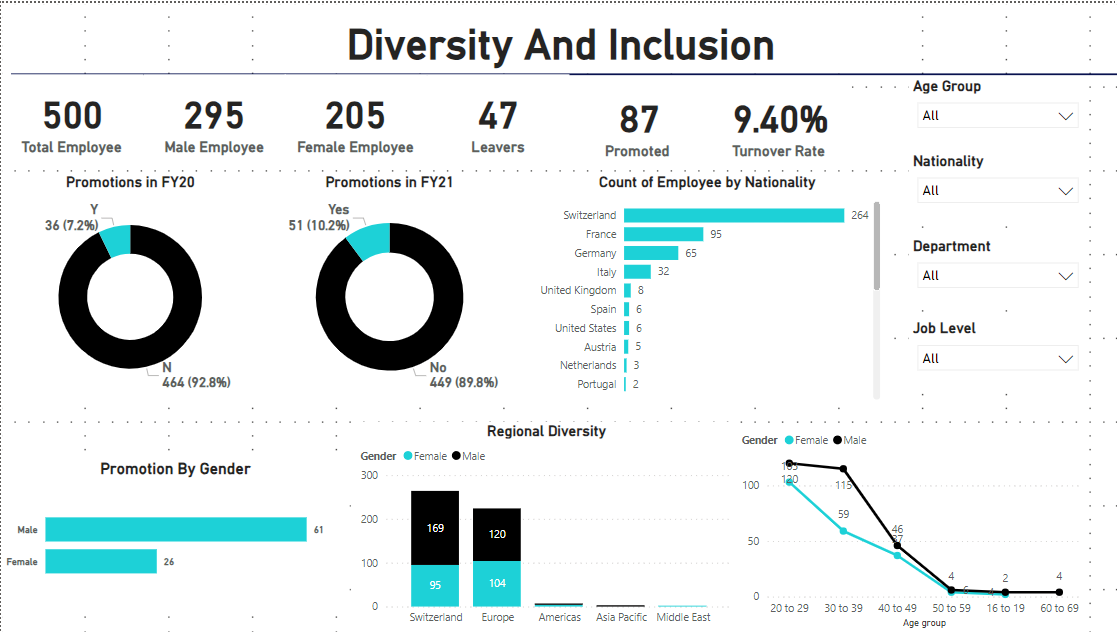

This screenshot's page, from the dashboard's own definition file:
{"tool":"powerbi","page":{"name":"Page 1","canvas":[1280,720],"ordinal":0},"visuals":[{"type":"textbox","box":[311.4,14.8,657.2,66.5],"z":0},{"type":"shape","box":[11.6,0,1268.4,162.9],"z":1000},{"type":"card","fields":{"Values":["Pharma Group AG.Male emp"]},"box":[162.9,81.4,162,104.3],"z":2000},{"type":"card","fields":{"Values":["Pharma Group AG.Female emp"]},"box":[324.3,81.4,162,104.3],"z":3000},{"type":"card","fields":{"Values":["CountNonNull(Pharma Group AG.Employee ID)"]},"box":[0,81.4,162,104.3],"z":4000},{"type":"card","fields":{"Values":["CountNonNull(Pharma Group AG.Leaver FY)"]},"box":[487.1,81.4,162,104.3],"z":9000},{"type":"donutChart","title":"Promotions in FY20","fields":{"Category":["Pharma Group AG.Promotion in FY20?"],"Y":["CountNonNull(Pharma Group AG.Employee ID)"]},"box":[0,194.3,295.7,264.3],"z":10000},{"type":"clusteredBarChart","title":"Count of Employee by Nationality ","fields":{"Category":["Pharma Group AG.Nationality 1"],"Y":["CountNonNull(Pharma Group AG.Employee ID)"]},"box":[604.3,194.3,405.7,264.3],"z":11002},{"type":"lineChart","fields":{"Category":["Pharma Group AG.Age group"],"Y":["CountNonNull(Pharma Group AG.Employee ID)"],"Series":["Pharma Group AG.Gender"]},"box":[841.4,480,400,240],"z":11003},{"type":"columnChart","title":"Regional Diversity","fields":{"Category":["Pharma Group AG.Region group: nationality 1"],"Y":["CountNonNull(Pharma Group AG.Employee ID)"],"Series":["Pharma Group AG.Gender"]},"box":[405.7,478.6,435.7,241.4],"z":11004},{"type":"barChart","title":"Promotion By Gender","fields":{"Category":["Pharma Group AG.Gender"],"Y":["Pharma Group AG.Promoted FY20"]},"box":[0,521.4,398.6,170],"z":11005},{"type":"card","fields":{"Values":["Pharma Group AG.Promoted FY20"]},"box":[648.6,85.7,162,104.3],"z":11006},{"type":"slicer","title":"Department","fields":{"Values":["Pharma Group AG.Last Department in FY20"]},"box":[1037.1,267.1,204.3,78.6],"z":11008},{"type":"slicer","title":"Job Level","fields":{"Values":["Pharma Group AG.Job Level after FY20 promotions"]},"box":[1037.1,361.4,204.3,78.6],"z":11009},{"type":"slicer","title":"Age Group","fields":{"Values":["Pharma Group AG.Age group"]},"box":[1037.1,84.3,204.3,78.6],"z":11010},{"type":"slicer","title":"Nationality","fields":{"Values":["Pharma Group AG.Nationality 1"]},"box":[1037.1,170,204.3,78.6],"z":11011},{"type":"donutChart","title":"Promotions in FY21","fields":{"Y":["CountNonNull(Pharma Group AG.Employee ID)"],"Category":["Pharma Group AG.Promotion in FY21?"]},"box":[284.3,194.3,320,264.3],"z":11012},{"type":"card","fields":{"Values":["Pharma Group AG.Turnover Rate (%)"]},"box":[810,85.7,162,104.3],"z":11013}]}

Visuals, with their boxes in screenshot pixels (x1, y1, x2, y2), scaled from the page's 1280x720 canvas onto the 1117x632 screenshot:
textbox: [272,13,845,71]
shape: [10,0,1116,143]
card - Pharma Group AG.Male emp: [142,71,284,163]
card - Pharma Group AG.Female emp: [283,71,424,163]
card - CountNonNull(Pharma Group AG.Employee ID): [0,71,141,163]
card - CountNonNull(Pharma Group AG.Leaver FY): [425,71,566,163]
"Promotions in FY20" donutChart: [0,171,258,403]
"Count of Employee by Nationality " clusteredBarChart: [527,171,881,403]
lineChart - Pharma Group AG.Age group x CountNonNull(Pharma Group AG.Employee ID): [734,421,1083,631]
"Regional Diversity" columnChart: [354,420,734,631]
"Promotion By Gender" barChart: [0,458,348,607]
card - Pharma Group AG.Promoted FY20: [566,75,707,167]
"Department" slicer: [905,234,1083,303]
"Job Level" slicer: [905,317,1083,386]
"Age Group" slicer: [905,74,1083,143]
"Nationality" slicer: [905,149,1083,218]
"Promotions in FY21" donutChart: [248,171,527,403]
card - Pharma Group AG.Turnover Rate (%): [707,75,848,167]
